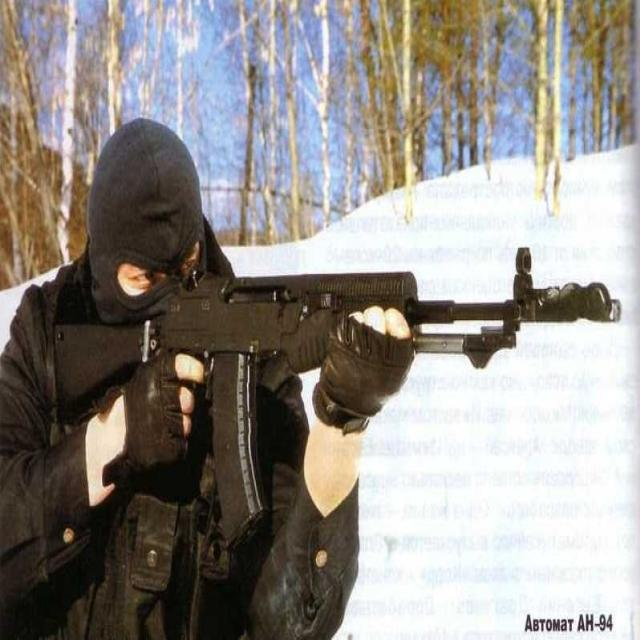Rifle: (46, 254, 630, 472)
